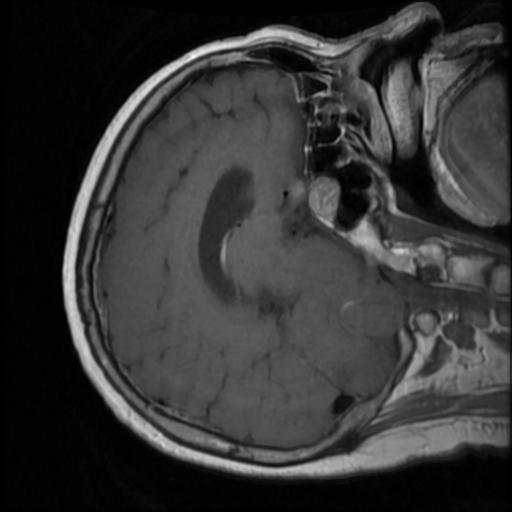pituitary tumour: (308, 177, 340, 216)
